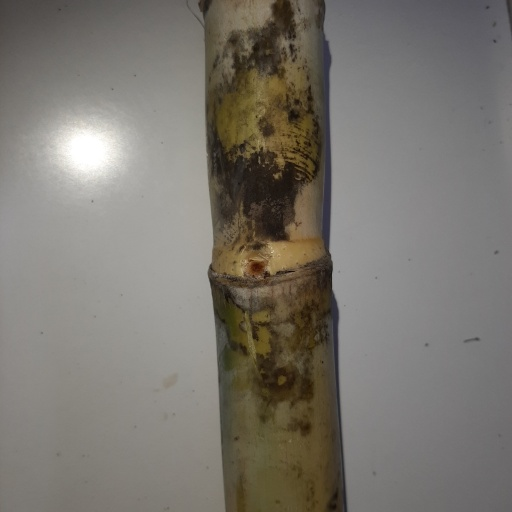Damage_Bud: (241, 258, 270, 280)
